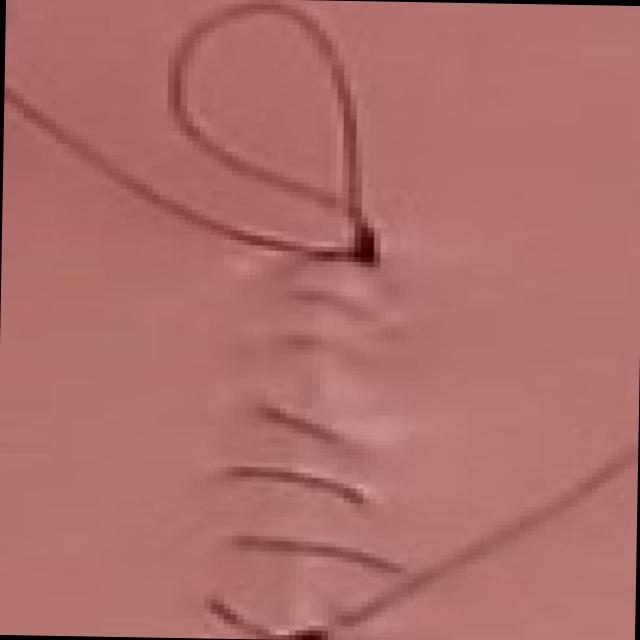suture: (10, 4, 380, 264), (231, 446, 638, 628), (226, 466, 376, 508), (260, 398, 363, 453), (210, 599, 334, 640), (280, 335, 378, 360), (294, 291, 366, 321)
